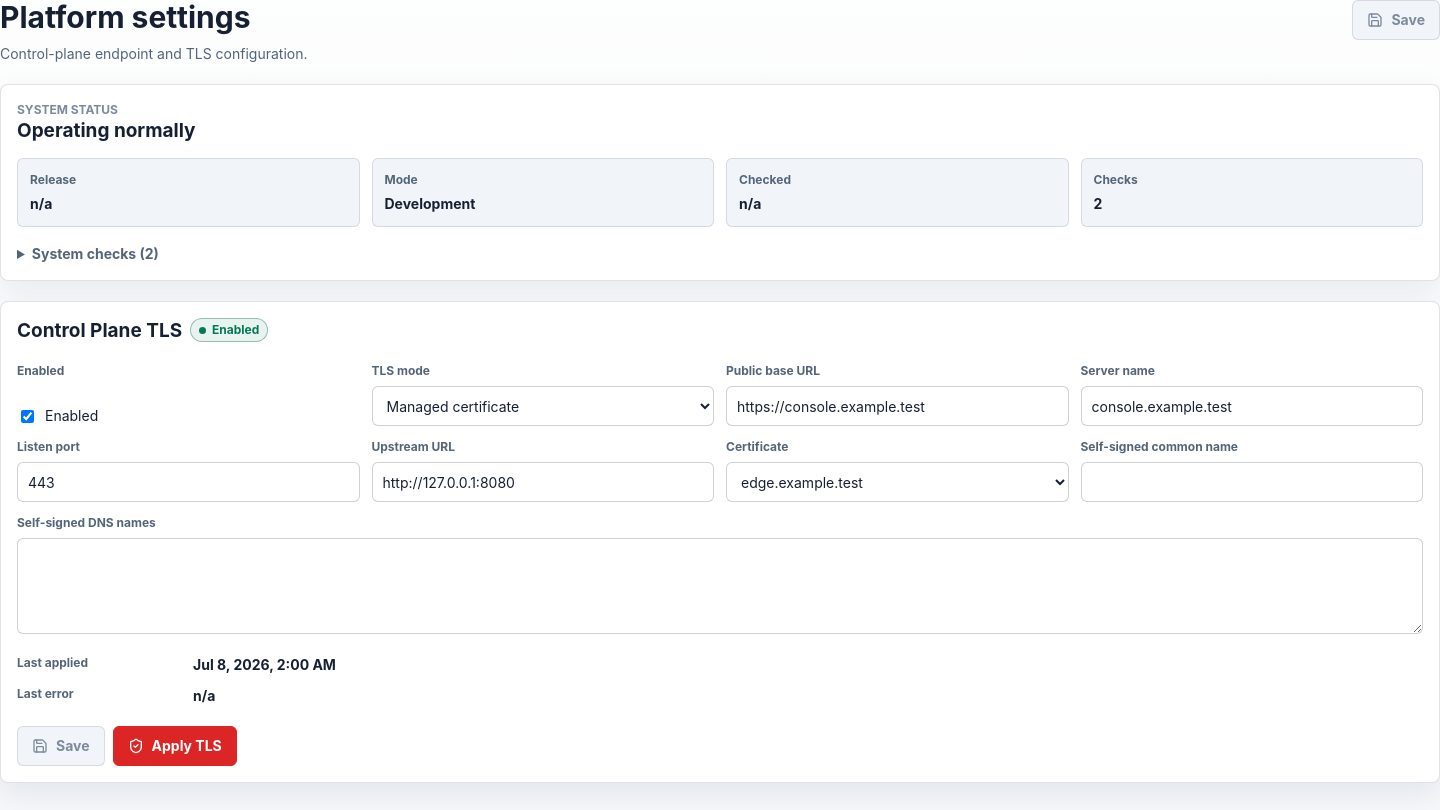
Scenario: Platform settings, mail and access pages › loads and saves control-plane TLS settings and applies them only after confirmation
Step 1. Replace the text in the field labelled "Public base URL" with "https://console2.example.test" → (897, 406), box [726,386,1068,426]
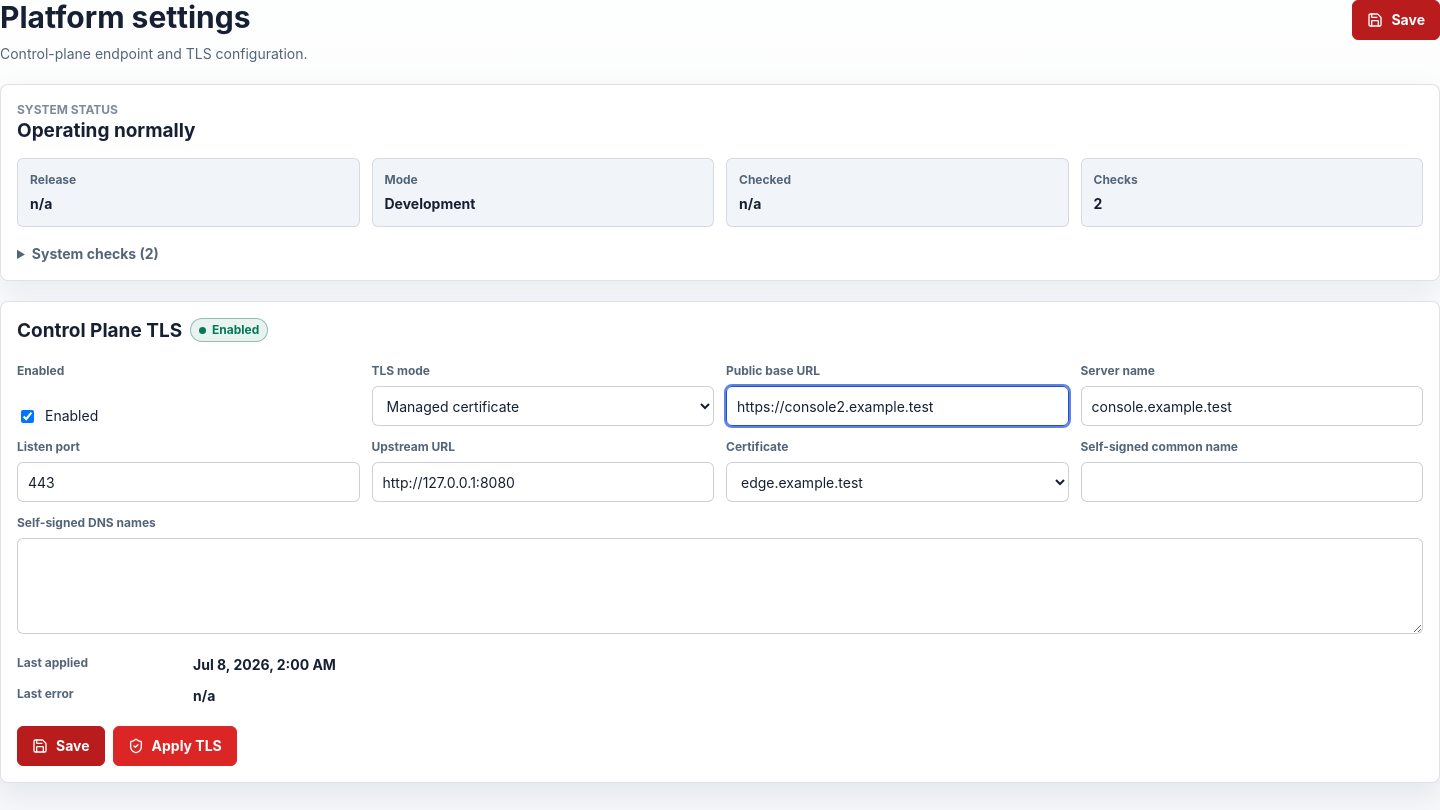
Step 2. Click the button "Save" in the row of "Platform settings" → (1396, 20), box [1352,0,1439,40]
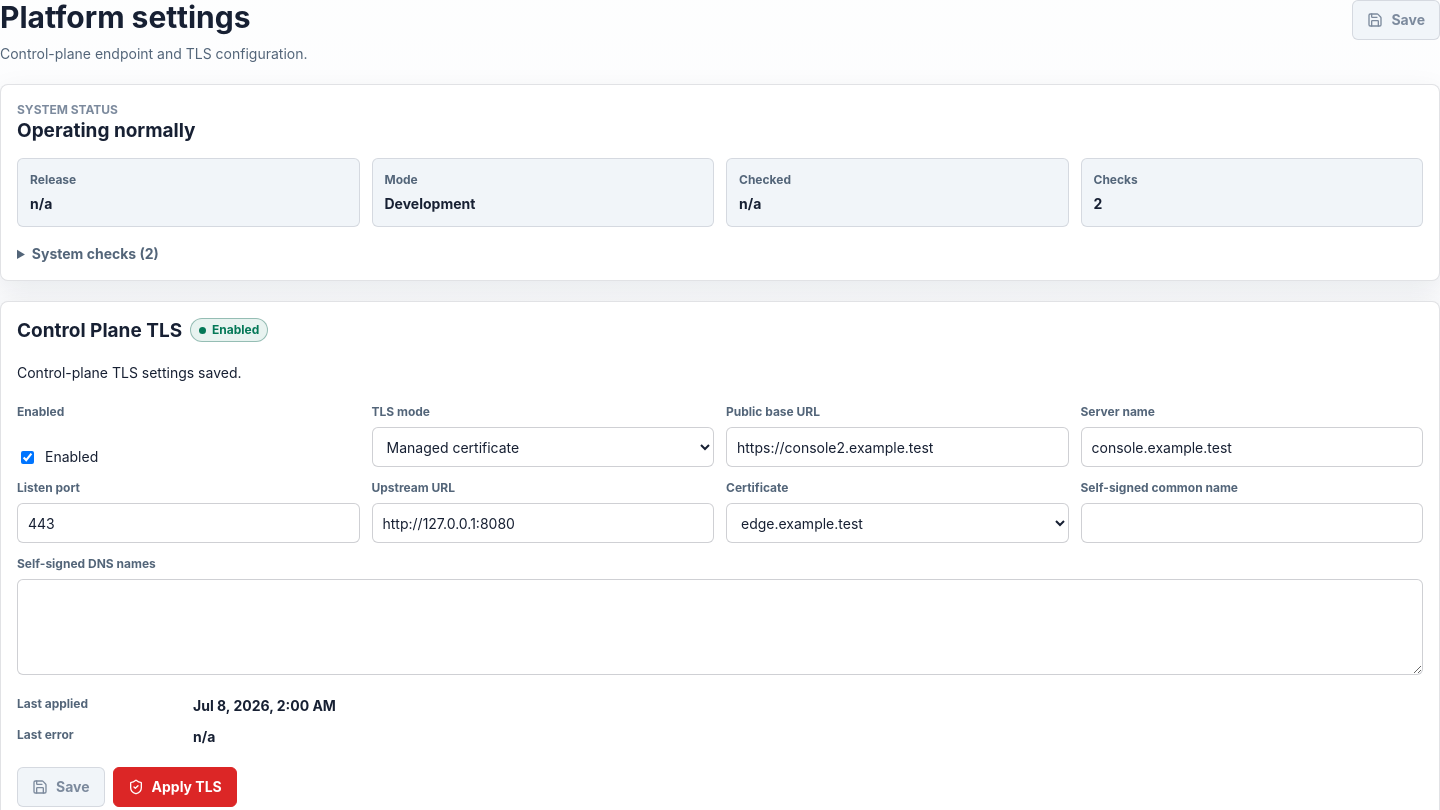
Expected: the text "Control-plane TLS settings saved." is shown, [17,364,242,381]
Step 3. Click the button "Apply TLS" → (175, 787), box [112,767,237,807]
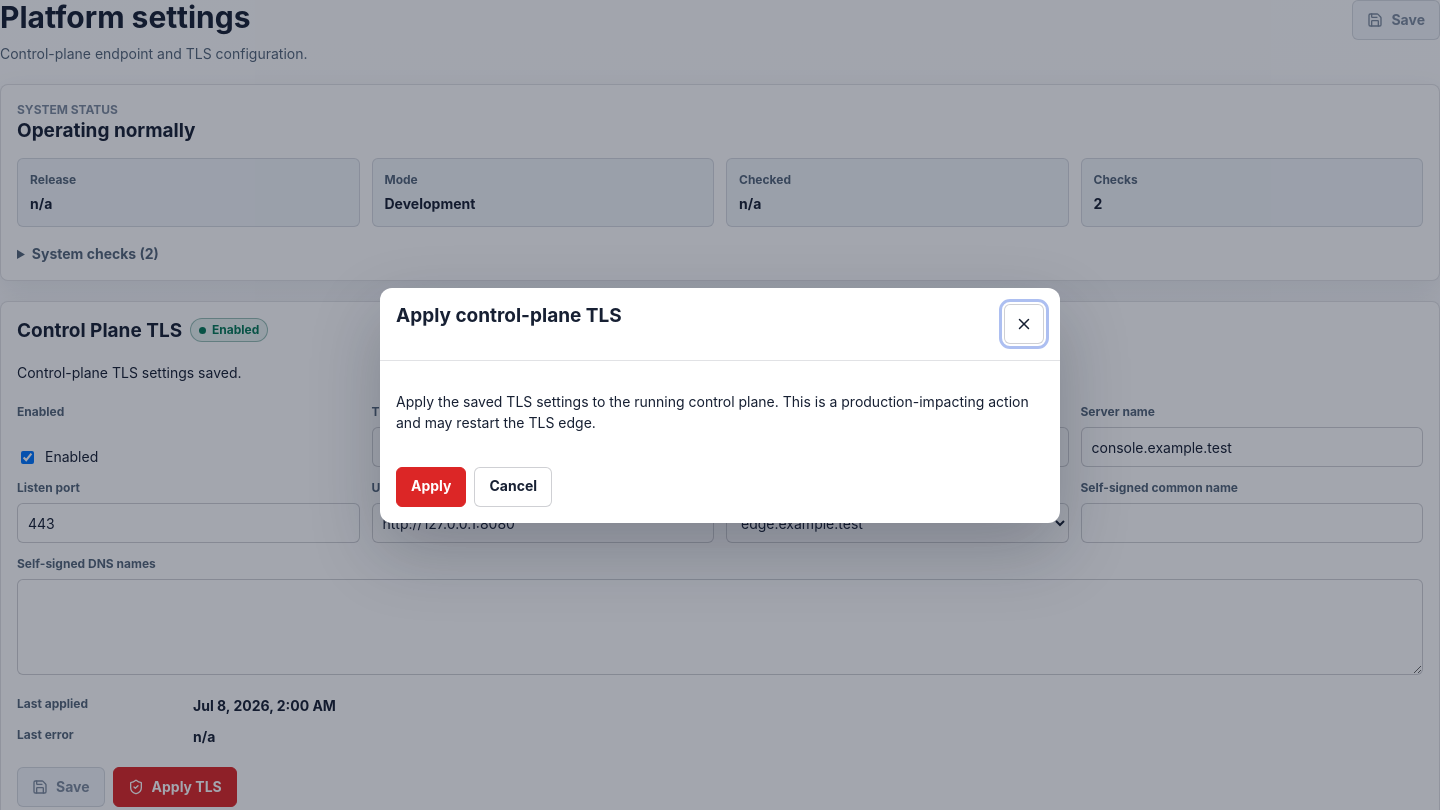
Step 4. Click the button "Apply" → (431, 486), box [396,466,466,506]
(page scrolled)
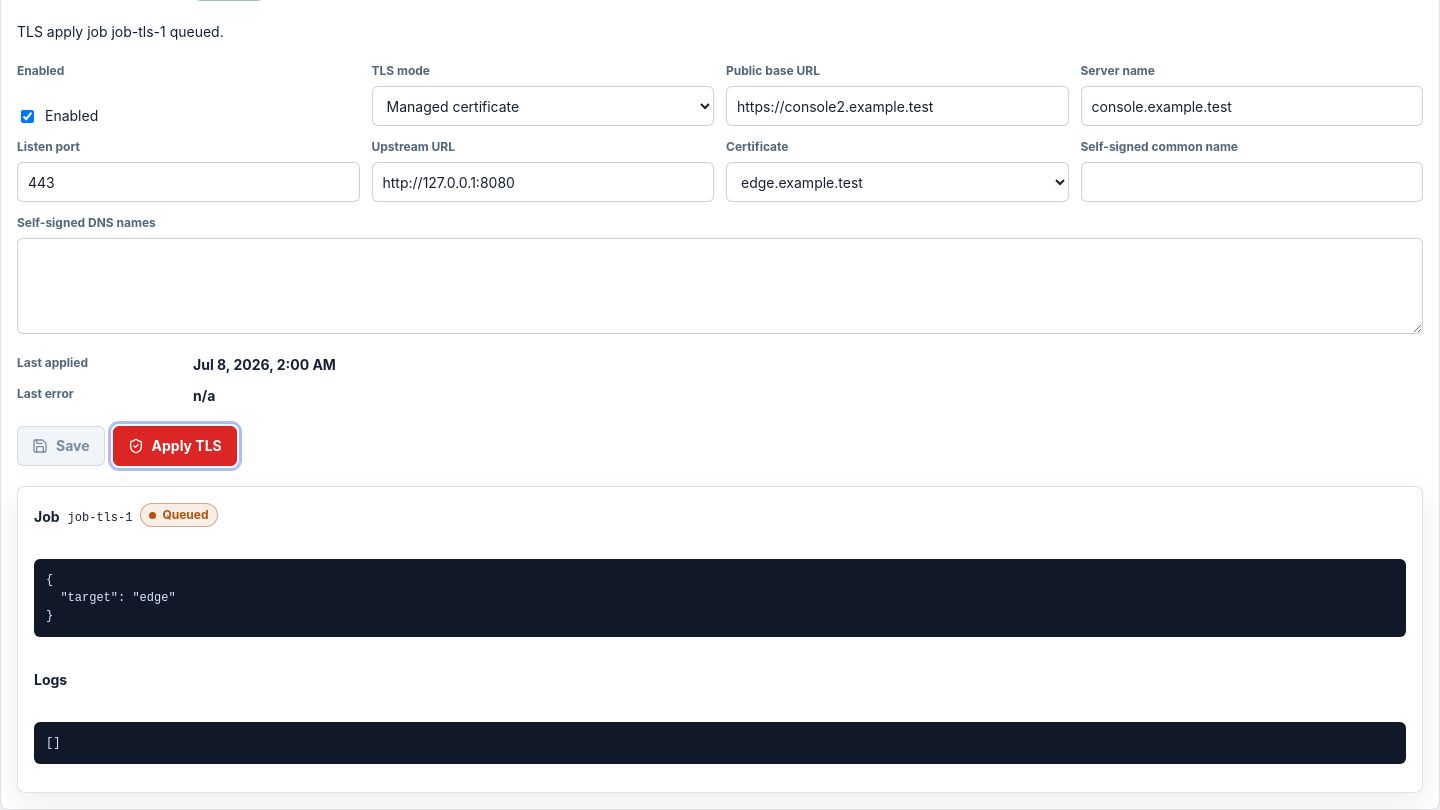
Expected: the text "TLS apply job job-tls-1 queued." is shown, [17,23,224,40]
Expected: the text "job-tls-1" is shown, [68,509,132,527]
